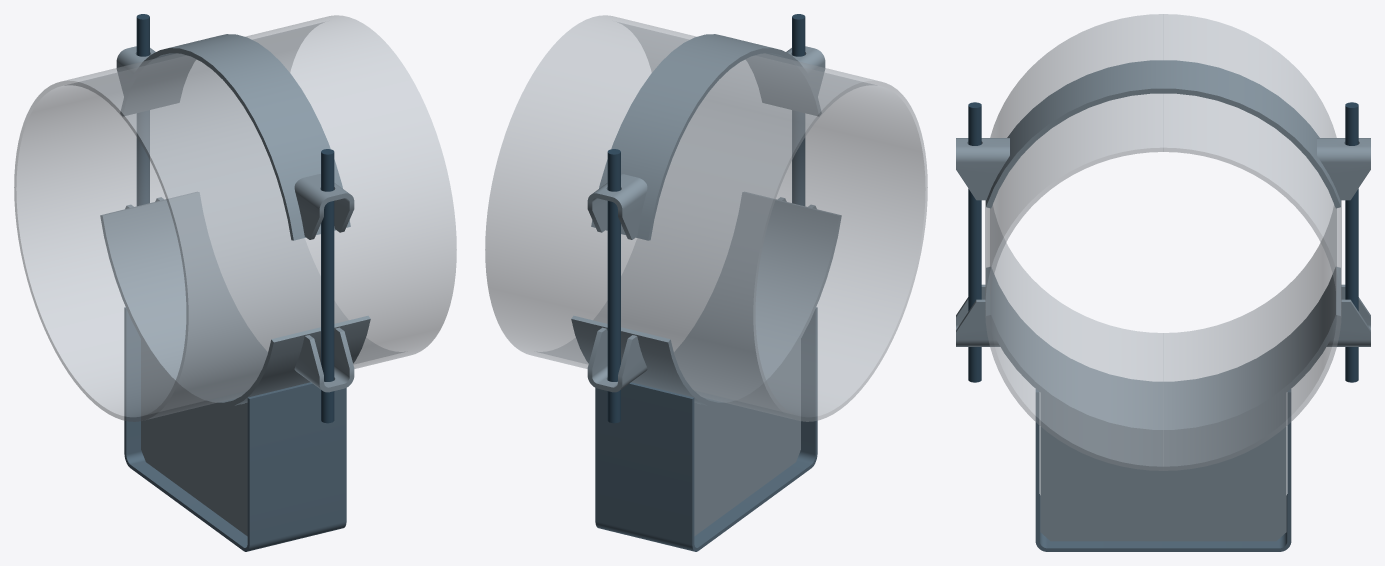
Rendered from TS-627.00.000-011-opora-dn530-H200-L170.glb.
3 views of the same model, side by side, from view 1: azimuth 30°, elevation 25°; view 2: azimuth 150°, elevation 25°; view 3: azimuth 270°, elevation 25° (orthographic). The views are drawn at different scales.
Parts seen in each view (by area): view 1: truba, podushka_3, skoba_0, bugel0_podushka_0, rebro4_1, shpilka_0_-1, bugel0_ushko_2, ushko_5, shpilka_0_1, bugel0_ushko_1; view 2: truba, podushka_3, skoba_0, bugel0_podushka_0, rebro4_1, shpilka_0_1, bugel0_ushko_1, ushko_4, shpilka_0_-1, bugel0_ushko_2; view 3: truba, rebro4_2, podushka_3, bugel0_podushka_0, skoba_0, shpilka_0_1, shpilka_0_-1, bugel0_ushko_1, bugel0_ushko_2, ushko_4, ushko_5.
Boxes of the visible parts, box(x1,y1,x2,y2) form: truba: box(14, 15, 456, 421); podushka_3: box(100, 192, 370, 407); skoba_0: box(124, 307, 346, 551); bugel0_podushka_0: box(120, 34, 350, 240); rebro4_1: box(141, 339, 247, 536); shpilka_0_-1: box(321, 149, 334, 423); bugel0_ushko_2: box(294, 174, 354, 239); ushko_5: box(294, 327, 354, 392); shpilka_0_1: box(136, 14, 149, 205); bugel0_ushko_1: box(116, 46, 155, 95); truba: box(485, 15, 927, 421); podushka_3: box(571, 192, 841, 407); skoba_0: box(595, 307, 817, 551); bugel0_podushka_0: box(591, 34, 821, 240); rebro4_1: box(694, 339, 800, 536); shpilka_0_1: box(607, 149, 620, 423); bugel0_ushko_1: box(587, 174, 647, 239); ushko_4: box(587, 327, 647, 392); shpilka_0_-1: box(792, 14, 805, 205); bugel0_ushko_2: box(786, 46, 825, 95); truba: box(985, 14, 1341, 470); rebro4_2: box(1040, 392, 1286, 541); podushka_3: box(986, 267, 1340, 434); bugel0_podushka_0: box(986, 60, 1340, 208); skoba_0: box(1035, 389, 1291, 551); shpilka_0_1: box(1345, 102, 1358, 382); shpilka_0_-1: box(968, 102, 981, 382); bugel0_ushko_1: box(1317, 138, 1370, 200); bugel0_ushko_2: box(956, 138, 1009, 200); ushko_4: box(1327, 284, 1370, 346); ushko_5: box(956, 284, 999, 346).
Bounding box in the file's own units: 470 × 743 × 616.
